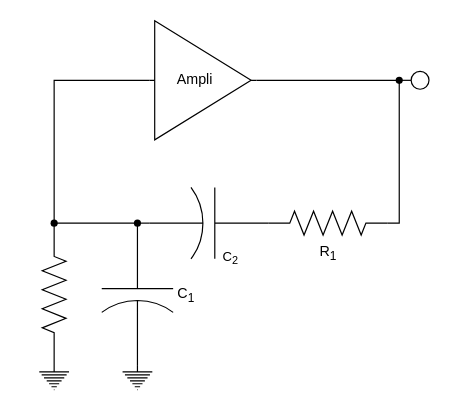
Some shapes in this 475 by 411 pixel diagram are drawn without their labels. The box of each missing label's shape, as (x1, y1, x2, y2) in pixels:
R 2: (41, 234, 66, 354)
V sor: (410, 70, 429, 89)
